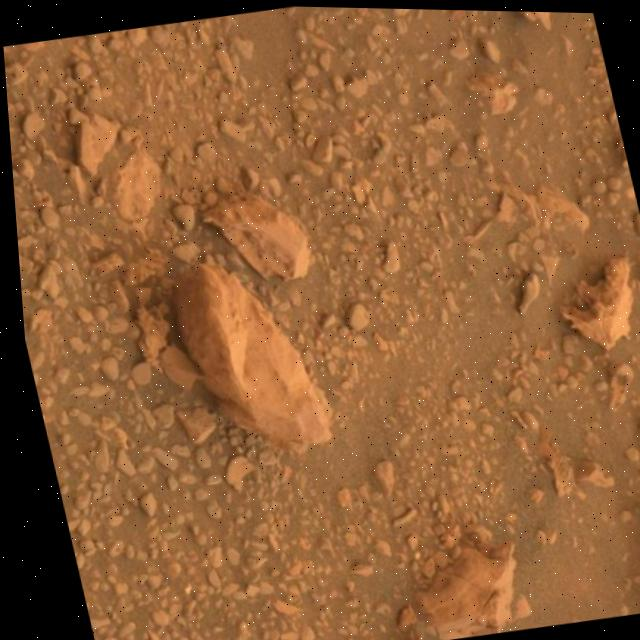mars-rocks: (167, 263, 324, 447), (197, 194, 305, 278)
